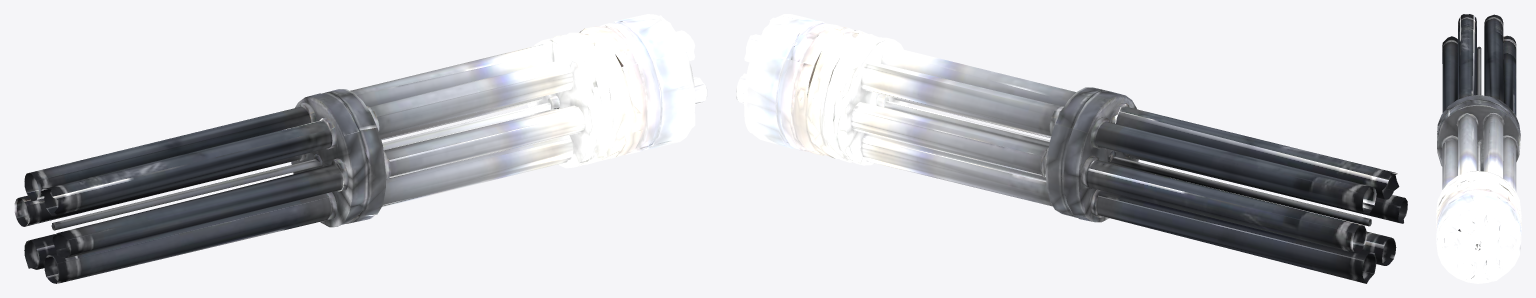
File: turret-barrels.glb
3 views of the same model, side by side, from view 1: azimuth 30°, elevation 25°; view 2: azimuth 150°, elevation 25°; view 3: azimuth 270°, elevation 25° (orthographic). The views are drawn at different scales.
Parts seen in each view (by area): view 1: turret-barrels; view 2: turret-barrels; view 3: turret-barrels.
Part boxes in pixels (bbox=[...]): turret-barrels: bbox=[14, 14, 707, 283]; turret-barrels: bbox=[736, 14, 1407, 283]; turret-barrels: bbox=[1436, 14, 1521, 283].
Size of the model in its own units: 0.8232 by 0.1512 by 0.1454.
1 material, 1 textured.
